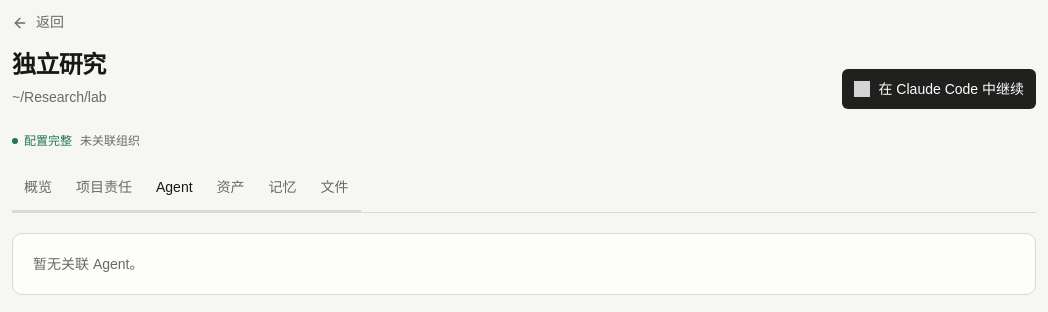
Test case: 渐进式首次体验 › 工作区关联页签分别说明空 Agent、资产和记忆
Expected: the text "暂无关联 Agent。" is shown, [33,256,144,272]
Step 1. Click the tab "资产" → (231, 188), box [205,165,257,212]
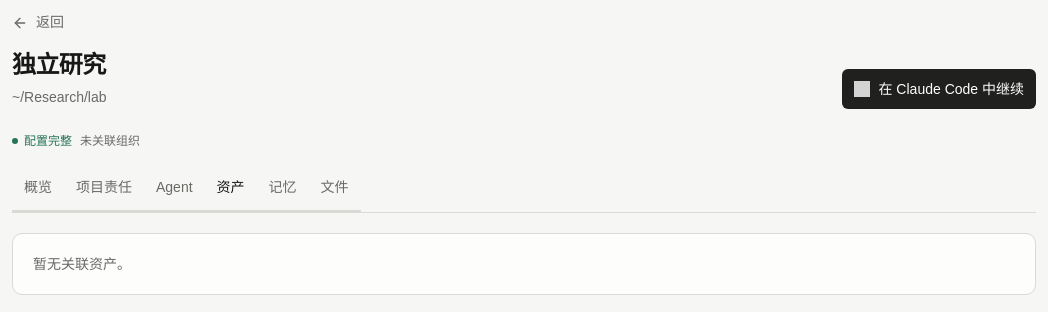
Result: the text "暂无关联资产。" is shown at [33,256,131,272]
Step 2. Click the tab "记忆" → (283, 188), box [257,165,309,212]
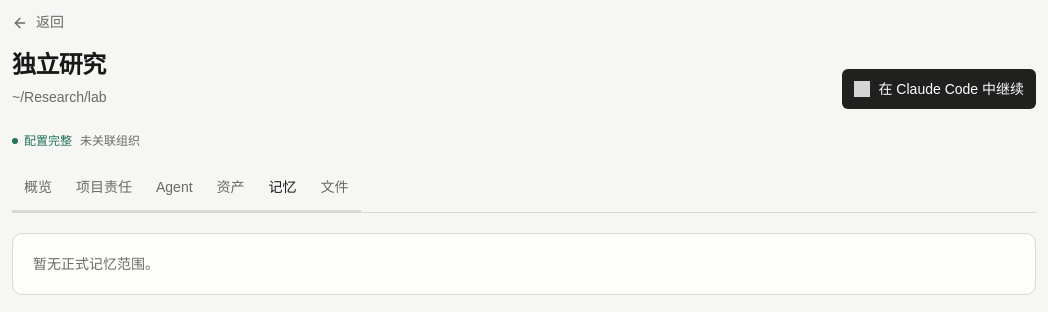
Result: the text "暂无正式记忆范围。" is shown at [33,256,159,272]
